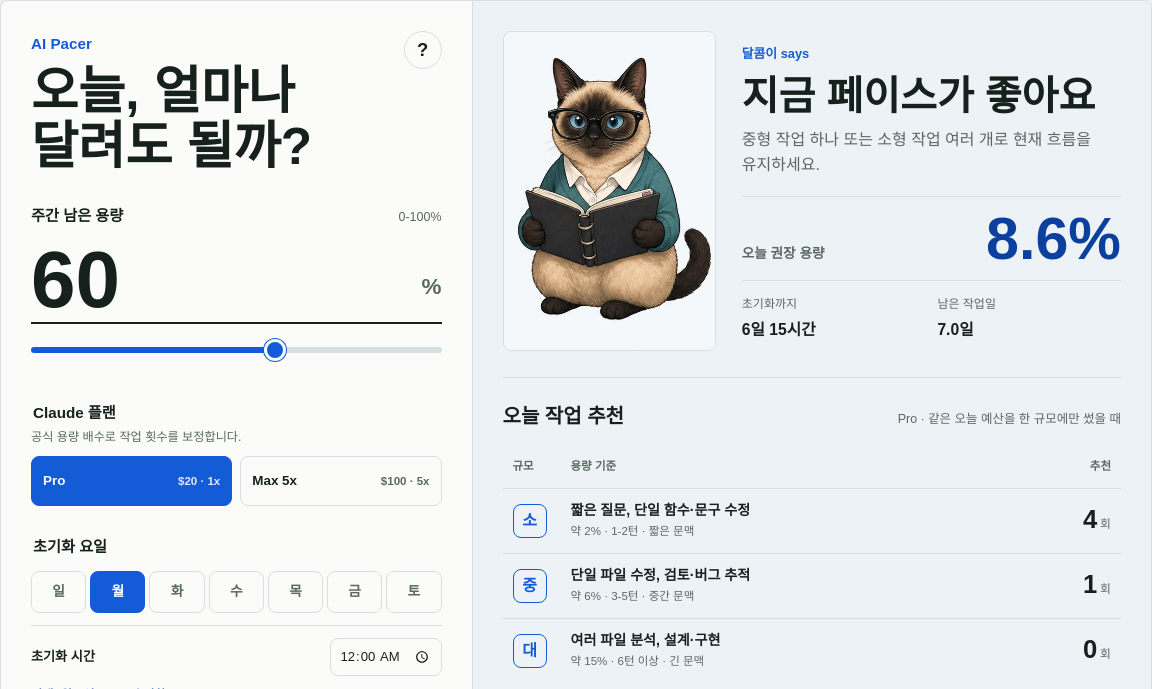
Test: AiPacerApp › opens the calculation guide with external support links
Click the button named "계산 기준 보기" at (422, 50), box 404,31 -> 442,69
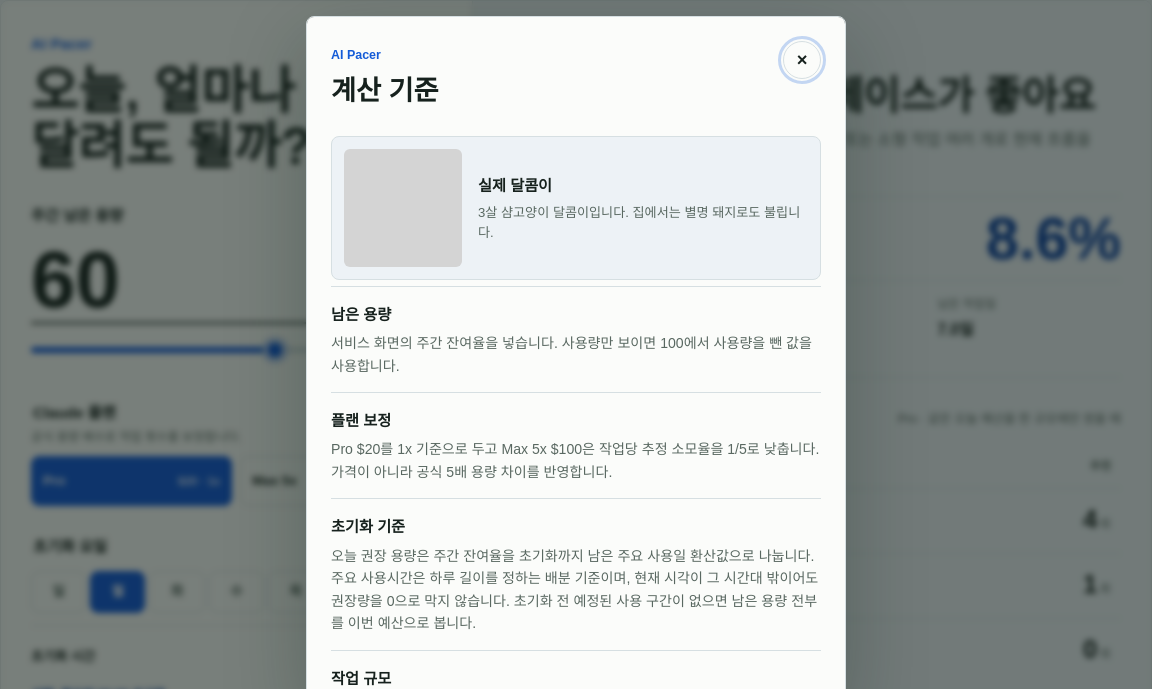
Now the heading "계산 기준" is shown, box 331,69 -> 439,114
Now the heading "플랜 보정" is shown, box 331,412 -> 391,429
